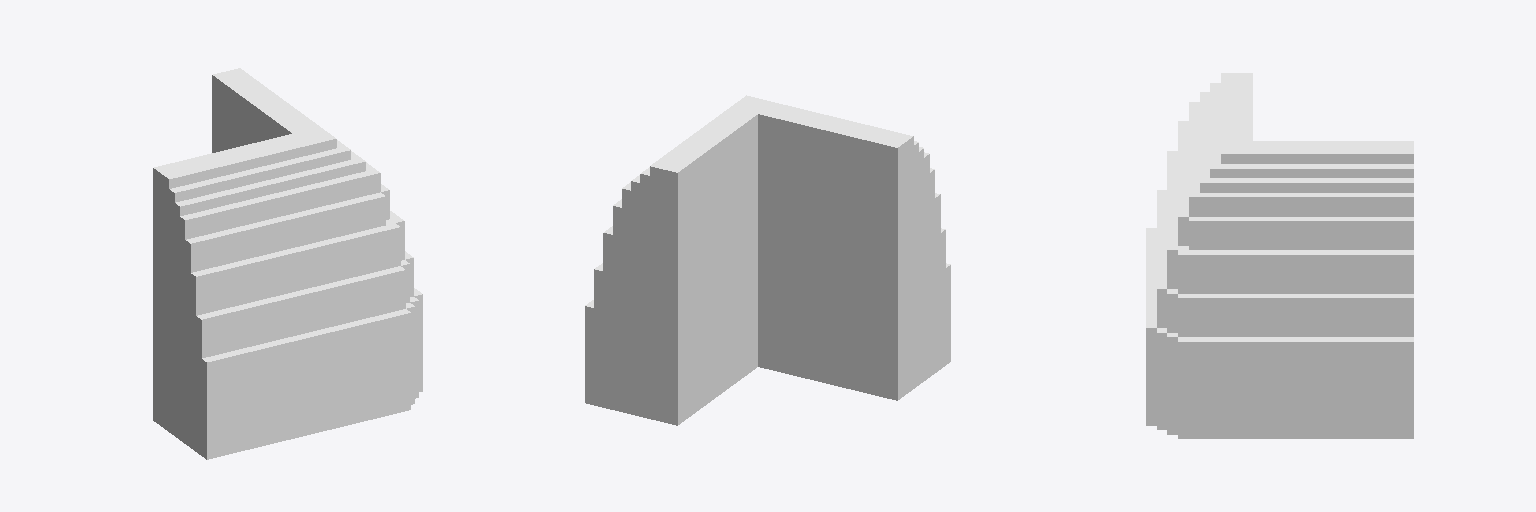
File: wall_rot.obj
The picture shows the model from 3 angles: view 1: azimuth 30°, elevation 25°; view 2: azimuth 150°, elevation 25°; view 3: azimuth 270°, elevation 25°; orthographic projection.
Parts seen in each view (by area): view 1: wall_rot; view 2: wall_rot; view 3: wall_rot.
Part boxes in pixels (x1,y1,x2,y2): wall_rot: (153, 68, 422, 459); wall_rot: (585, 95, 950, 425); wall_rot: (1146, 73, 1413, 438).
Bounding box in the file's own units: 25 × 26 × 25.